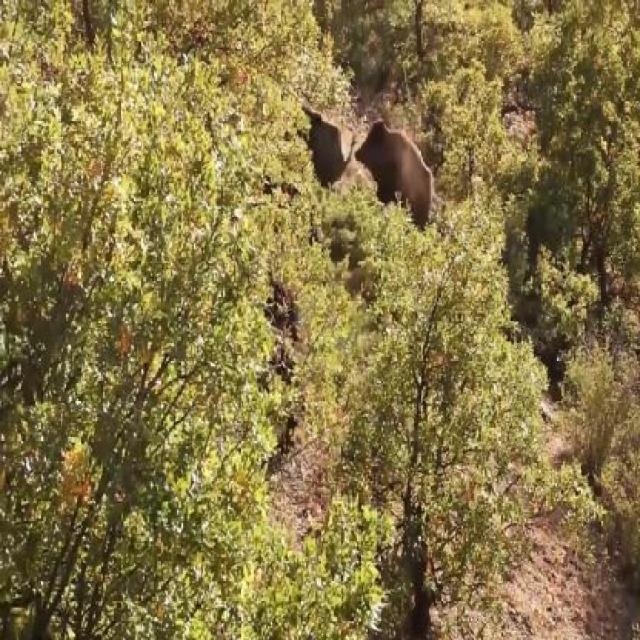pig: (369, 114, 446, 249), (295, 99, 350, 194)
